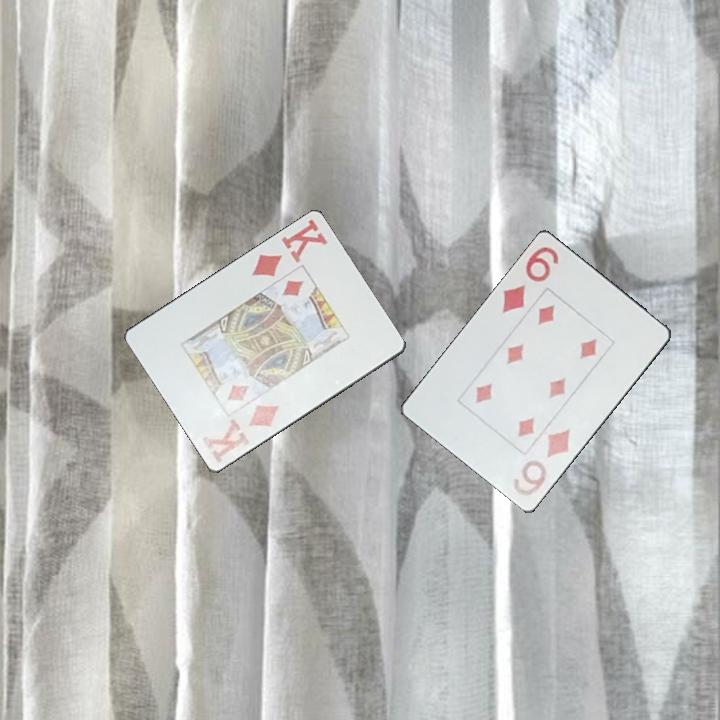6d: (509, 425, 573, 500), (499, 241, 562, 316)
Kd: (198, 400, 282, 466), (247, 216, 331, 280)
